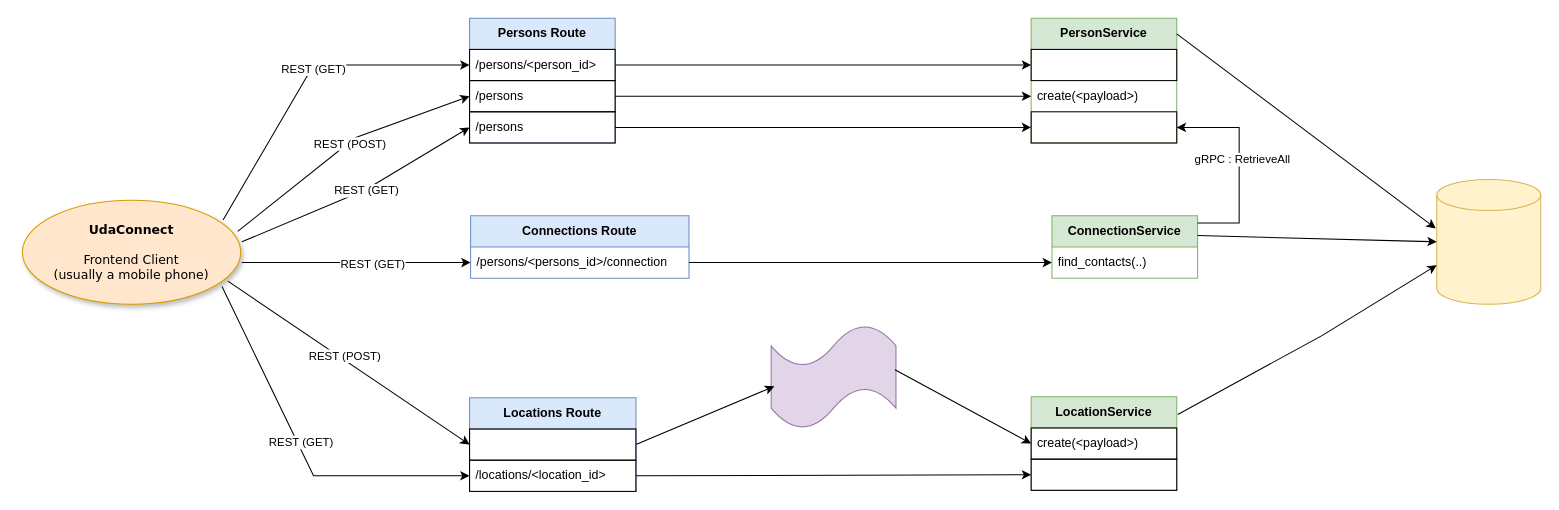
Image size: 1559x510. Some labels were removed from this diagram. The centre of each missing label's shape, as x and y in pixels:
"/locations" belongs at (552,444).
"Kafka" belongs at (833,376).
"PostgreSQL" belongs at (1488,241).
"retrieve(location_id)" belongs at (1103,474).
"retrieve(person_id)" belongs at (1103,64).
"retrieve_all()" belongs at (1103,127).
